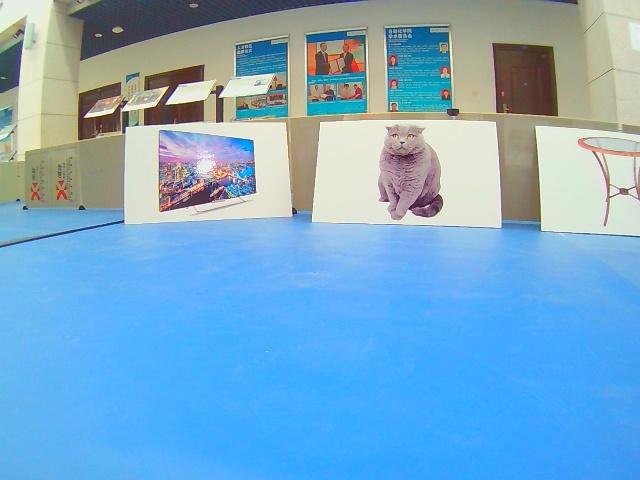pet: (311, 120, 503, 230)
table: (534, 125, 640, 237)
tv: (123, 123, 294, 226)
